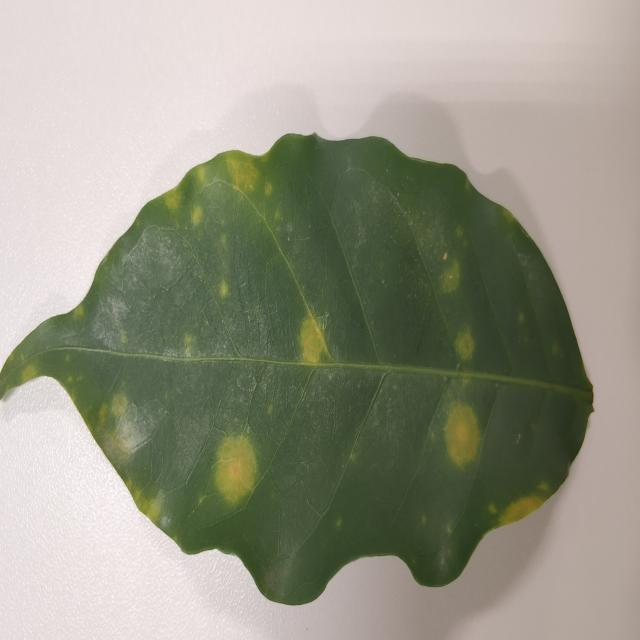Enfermedad-Roya: (0, 133, 595, 609)
